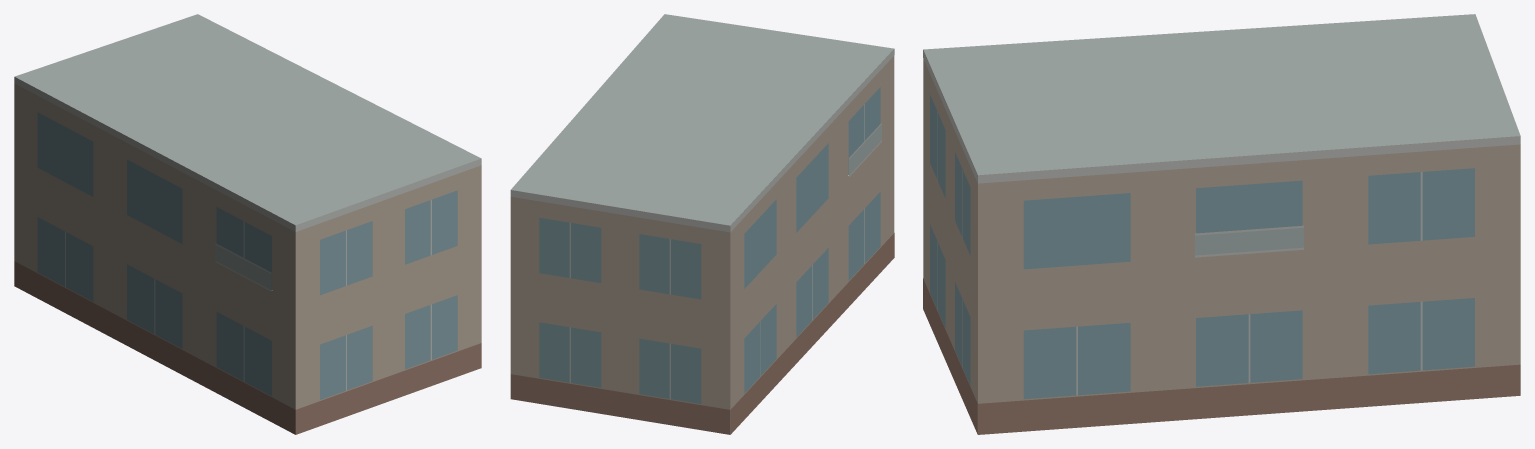
Rendered from survey-upis-32906708.glb.
3 renders of one model, left to right at view 1: azimuth 30°, elevation 25°; view 2: azimuth 150°, elevation 25°; view 3: azimuth 270°, elevation 25°, orthographic. The views are drawn at different scales.
Visible parts, largest first — view 1: survey-upis-32906708.tmp; view 2: survey-upis-32906708.tmp; view 3: survey-upis-32906708.tmp.
Part boxes in pixels (x1,y1,x2,y2): survey-upis-32906708.tmp: (14, 14, 481, 434); survey-upis-32906708.tmp: (510, 14, 894, 434); survey-upis-32906708.tmp: (923, 14, 1520, 434).
Bounding box in the file's own units: 10.13 × 7.6 × 15.86.
